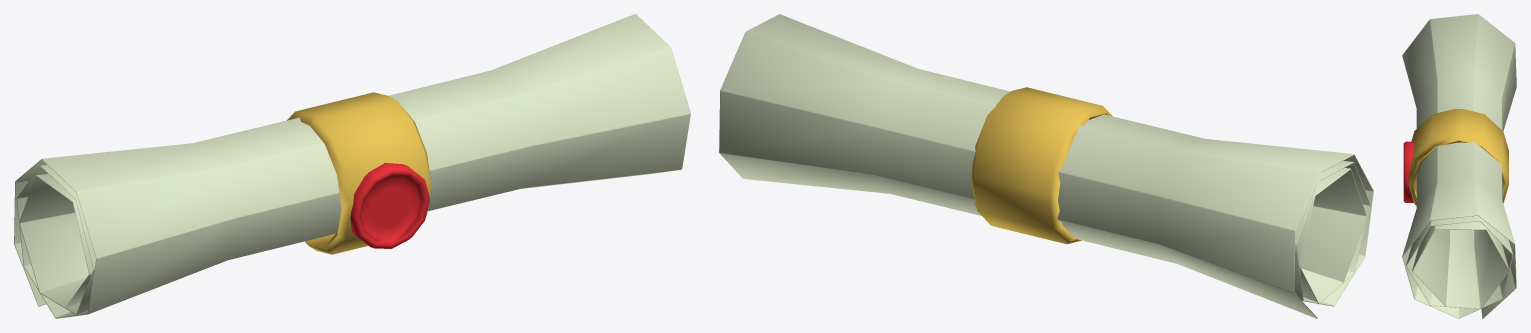
The model's file is Scroll.fbx.
The picture shows the model from 3 angles, left to right: view 1: azimuth 30°, elevation 25°; view 2: azimuth 150°, elevation 25°; view 3: azimuth 270°, elevation 25°; orthographic projection. The views are drawn at different scales.
Parts seen in each view (by area): view 1: ScrollPaper, ScrollWrap, Seal; view 2: ScrollPaper, ScrollWrap; view 3: ScrollPaper, ScrollWrap, Seal.
Part boxes in pixels (x1,y1,x2,y2): ScrollPaper: (14,14,690,318); ScrollWrap: (287,92,431,254); Seal: (350,163,429,248); ScrollPaper: (719,14,1373,318); ScrollWrap: (971,87,1112,244); ScrollPaper: (1402,14,1516,318); ScrollWrap: (1408,109,1508,205); Seal: (1403,141,1414,202).
Bounding box in the file's own units: 0.5293 × 0.1276 × 0.1274.
